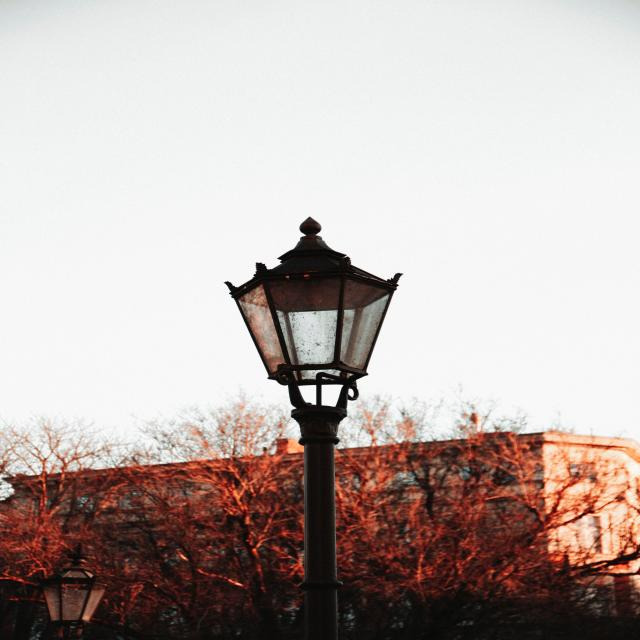Street Light: (223, 218, 401, 640), (43, 545, 107, 640)
